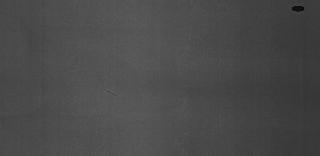punching hole: (291, 4, 307, 14)
rolled pit: (99, 87, 118, 97)
